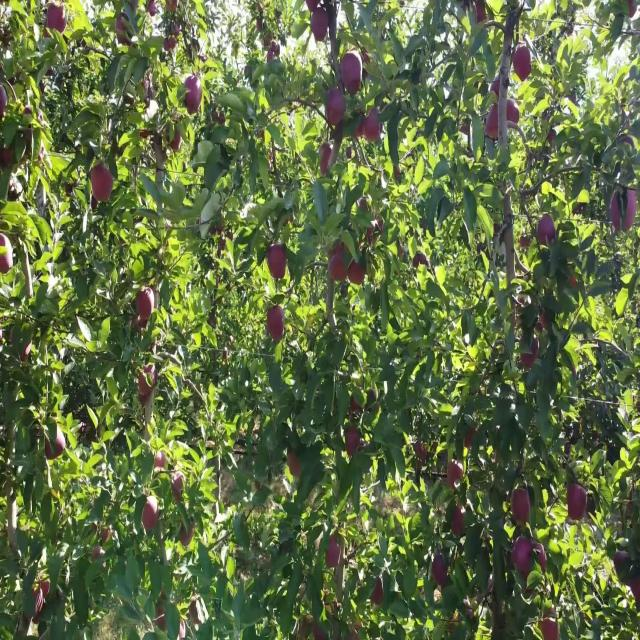apple: (612, 191, 636, 235), (92, 163, 114, 204), (340, 56, 363, 94), (512, 540, 533, 580), (568, 483, 588, 521), (184, 78, 204, 114), (328, 92, 347, 128), (512, 490, 532, 524), (268, 248, 288, 281), (312, 7, 330, 43), (140, 369, 158, 405), (212, 220, 231, 251), (48, 7, 68, 36), (364, 113, 384, 142), (520, 341, 540, 370), (144, 497, 160, 533), (268, 305, 284, 341), (136, 291, 155, 320), (432, 554, 448, 588), (332, 248, 347, 284), (516, 49, 532, 82), (48, 433, 64, 462), (448, 462, 464, 491), (180, 519, 196, 548), (212, 220, 227, 249), (540, 220, 556, 247), (0, 241, 12, 277), (368, 220, 384, 247), (540, 618, 560, 639), (348, 263, 366, 286), (488, 106, 500, 140), (348, 426, 361, 457), (452, 504, 465, 535), (116, 14, 129, 44), (164, 28, 180, 52), (536, 540, 548, 571), (168, 127, 182, 153), (132, 312, 148, 334), (320, 149, 333, 176), (328, 540, 340, 569), (172, 476, 184, 505), (288, 455, 303, 478), (464, 426, 476, 452), (416, 440, 428, 466), (508, 99, 520, 124), (536, 547, 548, 571), (536, 312, 548, 334), (172, 127, 182, 153), (372, 583, 384, 604), (628, 0, 640, 20), (632, 575, 640, 604), (4, 149, 14, 169), (492, 78, 501, 100), (476, 7, 488, 23), (156, 455, 168, 471), (24, 341, 32, 363), (356, 120, 364, 142), (40, 583, 51, 599), (316, 622, 327, 638), (148, 1, 158, 18), (92, 547, 103, 562), (416, 255, 428, 268), (520, 234, 530, 249), (352, 398, 362, 412), (168, 0, 179, 12), (104, 526, 112, 542), (92, 199, 99, 212), (572, 277, 577, 290), (4, 94, 8, 107)
